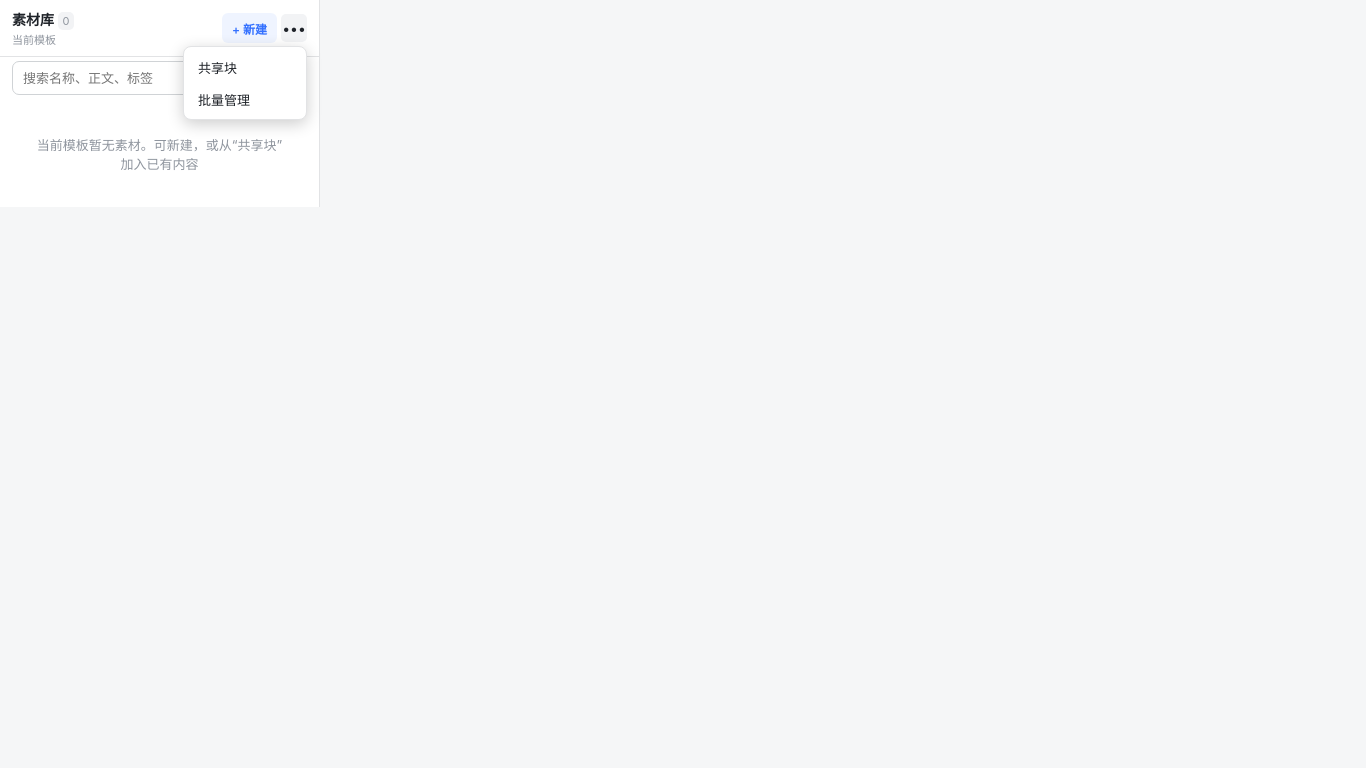
it: 新建块归属当前模板，共享块显式加入并保持同一身份
This screenshot has width=1366, height=768.
Step 1. Click the button "共享块" → point(245, 67), box [188,51,302,83]
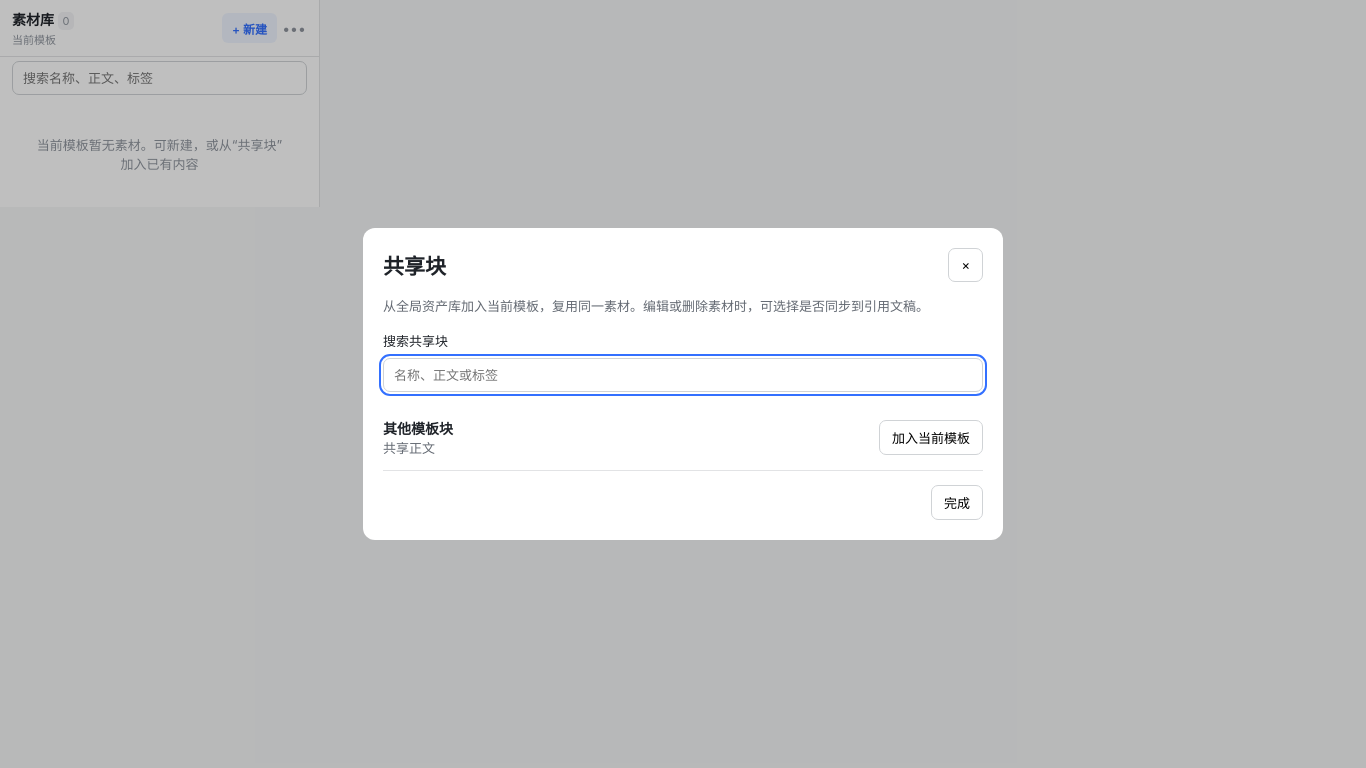
Result: the dialog named "共享素材" shows "可选择是否同步到引用文稿" at [383,298,929,314]
Step 2. Click the button "加入当前模板" → point(931, 438), box [879,420,983,455]
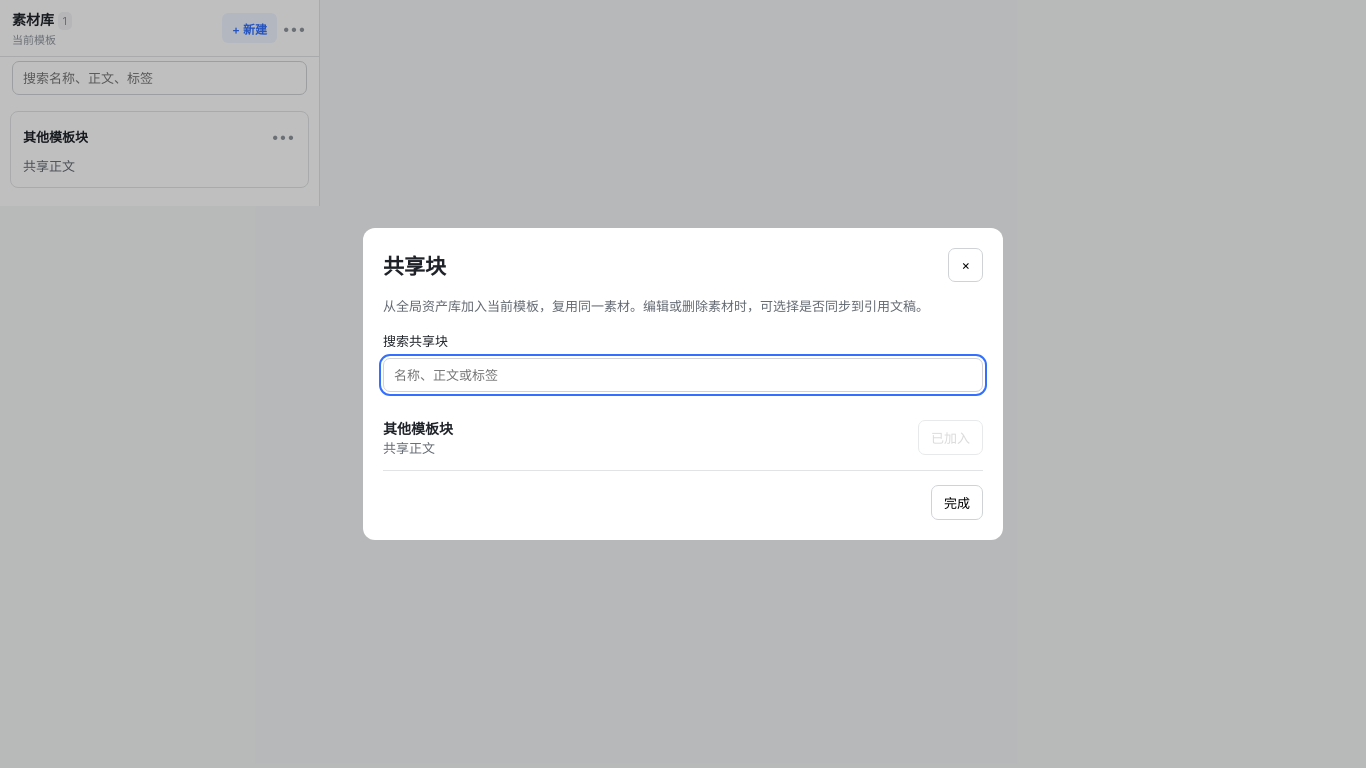
Result: the number of elements with class "block-item" is 1 at [10,111,309,188]
Result: the button "已加入" is disabled at [918,420,983,455]
